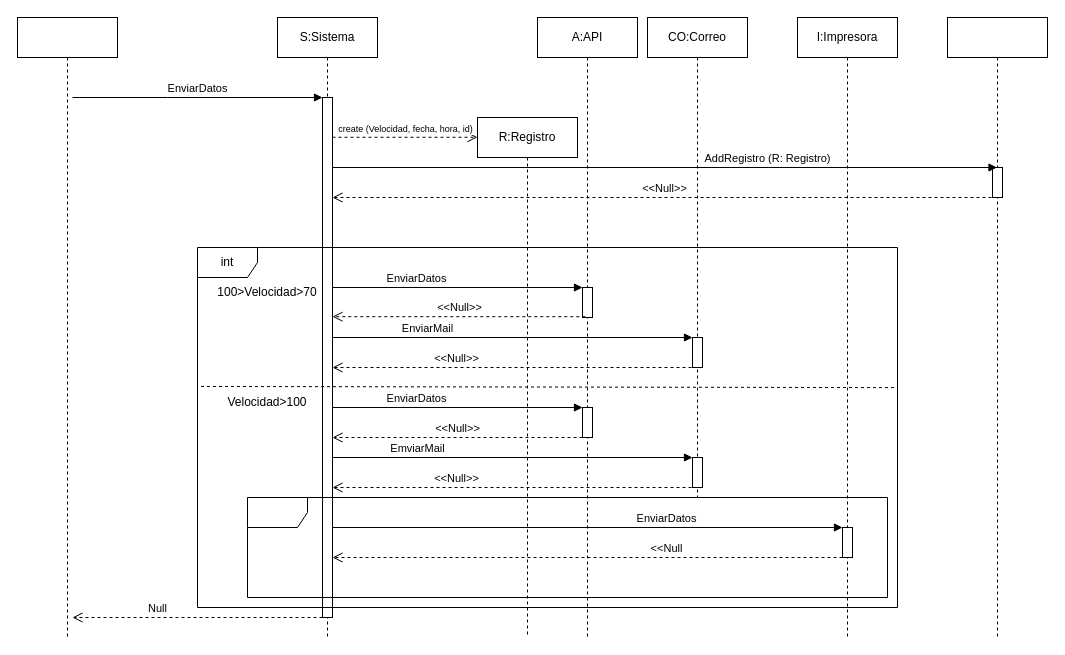
The diagram is 1065 pixels wide and 655 high, and some of its shapes have lost their labels. The shapes that lost their labels are listed below. From the top down, each one's box as (x1, y1, x2, y2) in pixels, then its label:
(16, 16, 118, 638): C:Cámara
(946, 16, 1048, 638): M:Multiobjeto R:Registro
(246, 496, 888, 598): loop (3)
